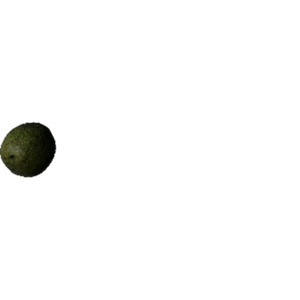abacate: (1, 121, 59, 181)
